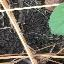Palmer Amaranth: (10, 0, 64, 55)
